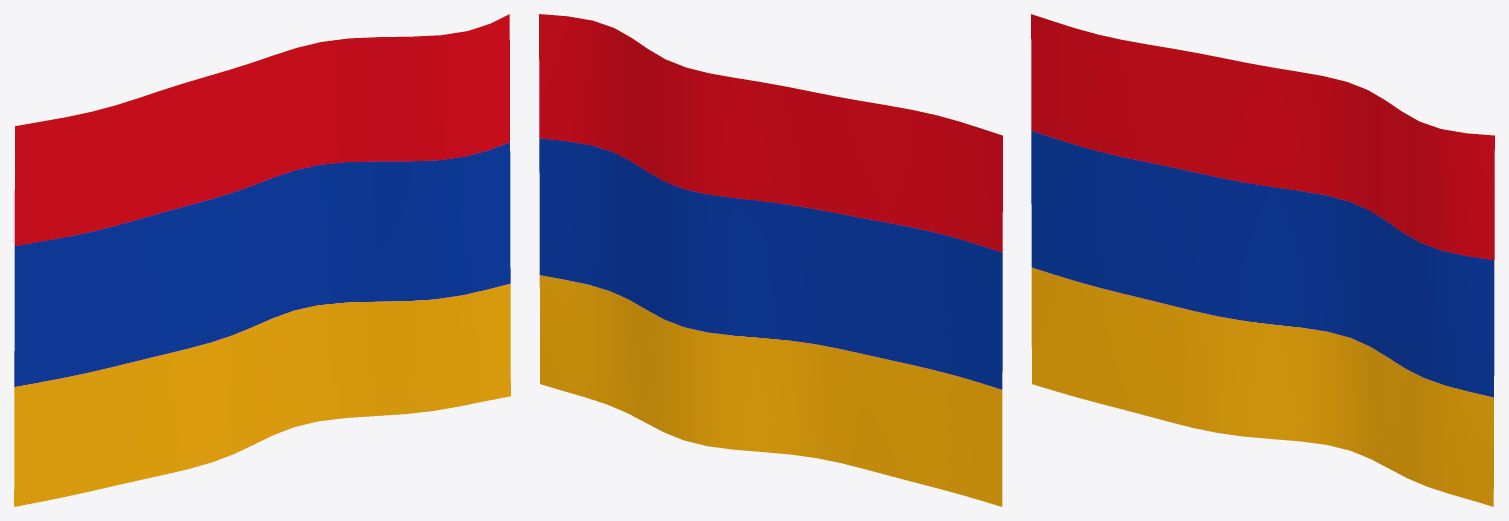
The model's file is AM_Armenia.glb.
The picture shows the model from 3 angles, left to right: view 1: azimuth 30°, elevation 25°; view 2: azimuth 150°, elevation 25°; view 3: azimuth 330°, elevation 25°; orthographic projection. The views are drawn at different scales.
Parts seen in each view (by area): view 1: AM_flag; view 2: AM_flag; view 3: AM_flag.
Part boxes in pixels (box(x1,y1,x2,y2)): AM_flag: box(14, 14, 510, 506); AM_flag: box(539, 14, 1002, 506); AM_flag: box(1031, 14, 1494, 506).
Bounding box in the file's own units: 1.33 × 1 × 0.1347.
Materials: 1 (1 with a texture image).
